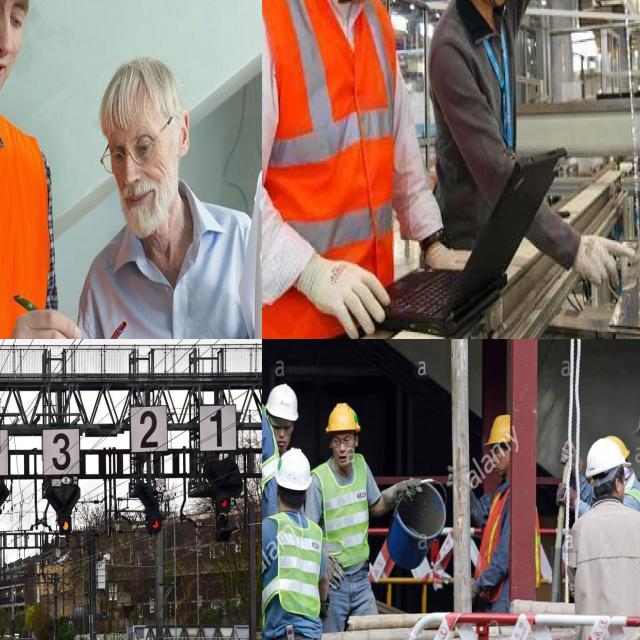No_Ear-Protection: (175, 105, 193, 160)
face_nomask: (100, 128, 180, 239), (0, 0, 30, 108), (326, 432, 358, 466)
glasses: (98, 134, 163, 182)
hand_glove: (292, 244, 402, 338), (572, 224, 640, 303), (384, 474, 426, 511)
hand_noglove: (0, 287, 88, 339)
head_helmet: (585, 441, 628, 474), (267, 384, 300, 422), (280, 448, 312, 487), (322, 402, 362, 429), (487, 417, 514, 442)
head_nohelmet: (102, 61, 185, 121)
person: (262, 0, 423, 339), (70, 55, 262, 339), (431, 0, 550, 260), (0, 0, 71, 339), (316, 401, 382, 622), (573, 441, 640, 640), (480, 411, 541, 606), (262, 447, 318, 640), (262, 383, 299, 463)
vest: (262, 0, 402, 303), (268, 517, 324, 620), (485, 488, 545, 584), (316, 467, 372, 558), (262, 424, 281, 497), (628, 479, 640, 570)
